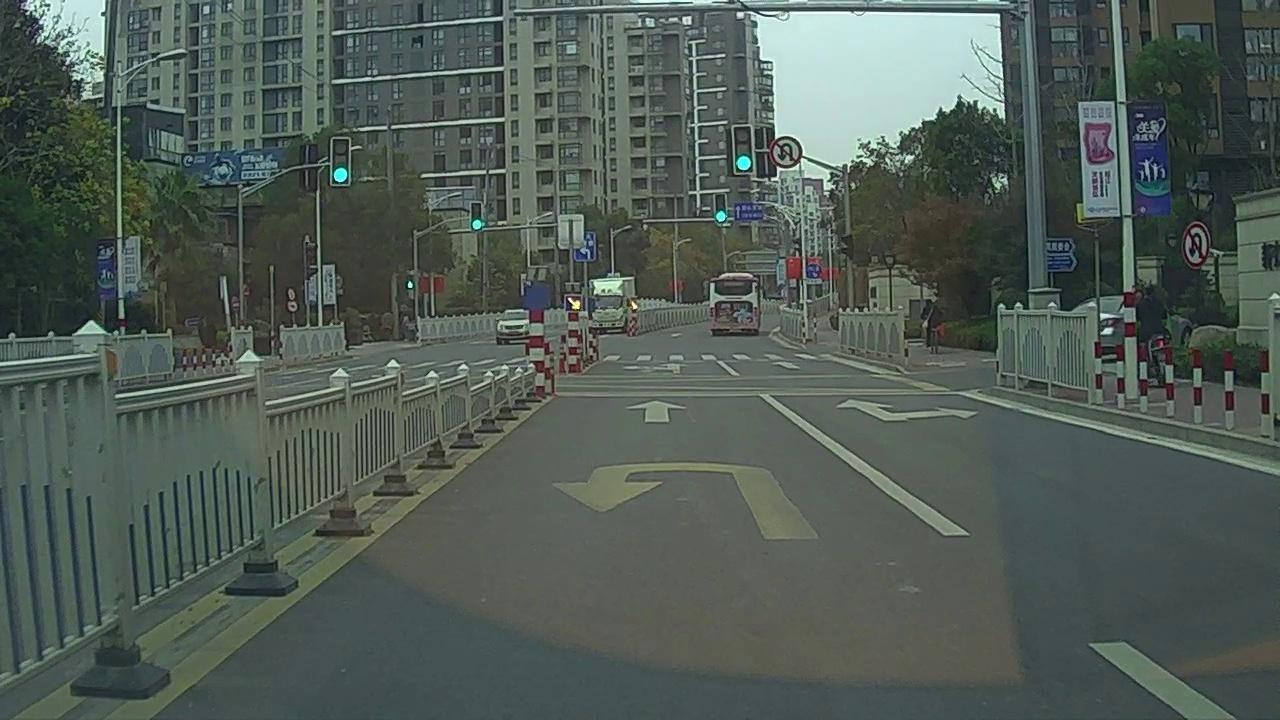traffic_light: (332, 138, 351, 182), (733, 128, 750, 172), (715, 192, 728, 222), (471, 203, 481, 231)
